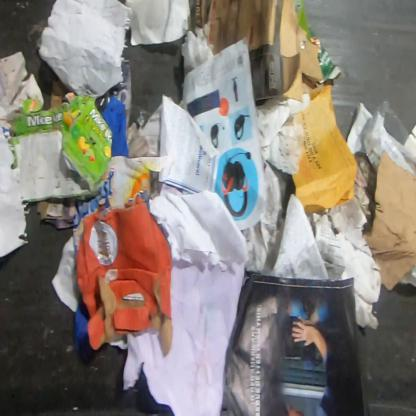cardboard: (74, 194, 173, 360), (194, 0, 324, 104), (7, 92, 114, 202), (362, 148, 415, 292), (308, 26, 342, 84)
soft_plastic: (360, 99, 416, 175)
